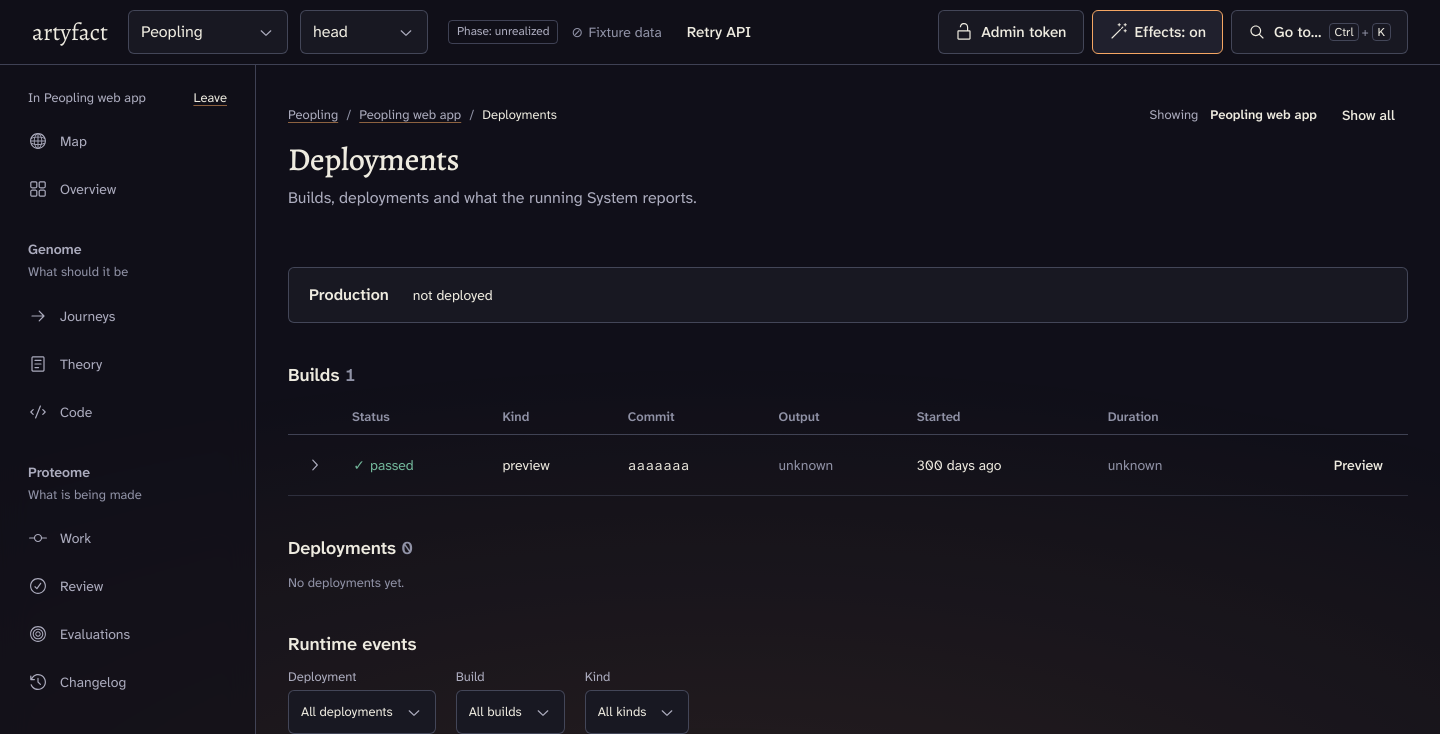
Scenario: Deployments page › keeps other Things' builds and events outside a scoped Thing workspace
Click the button named "Details of build.1" at coordinates (314, 465), box [292,443,336,487]
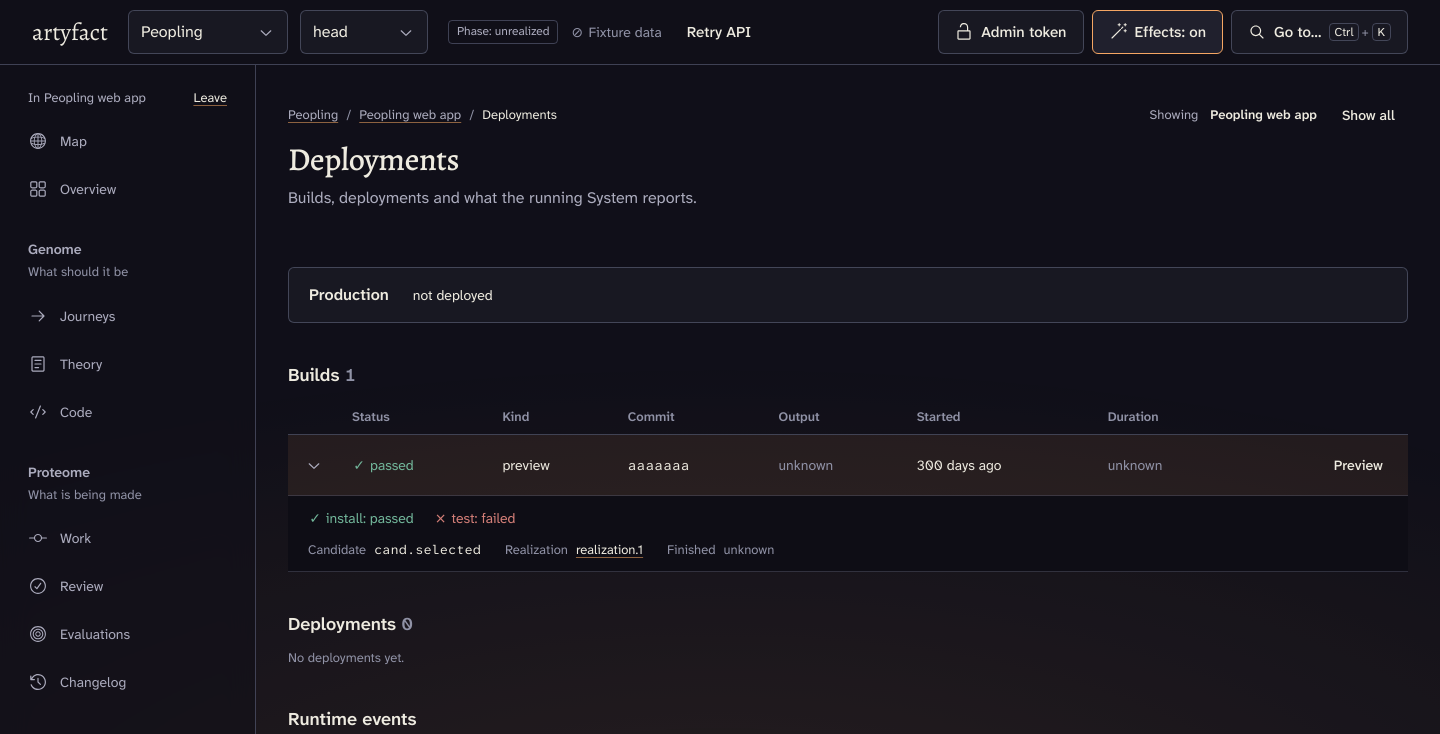
Expected: the text "cand.selected" is shown, [374,541,481,558]
